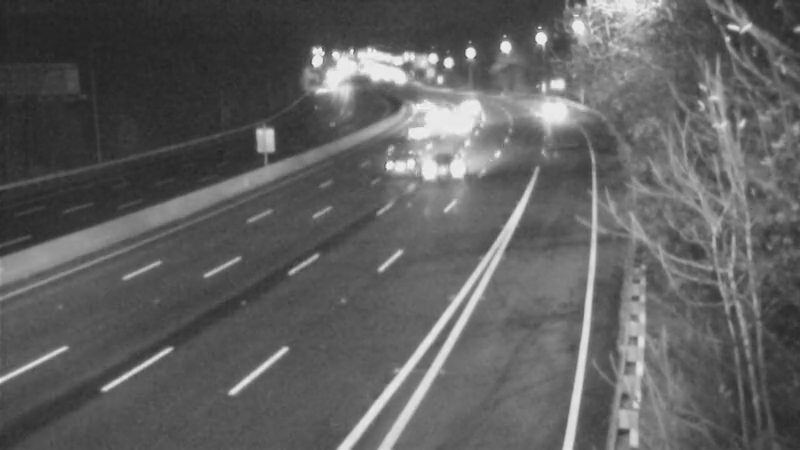vehicle: (412, 123, 492, 203), (357, 123, 437, 203), (445, 78, 495, 128), (399, 81, 449, 131), (521, 79, 571, 129), (438, 97, 488, 147), (391, 106, 441, 156)
